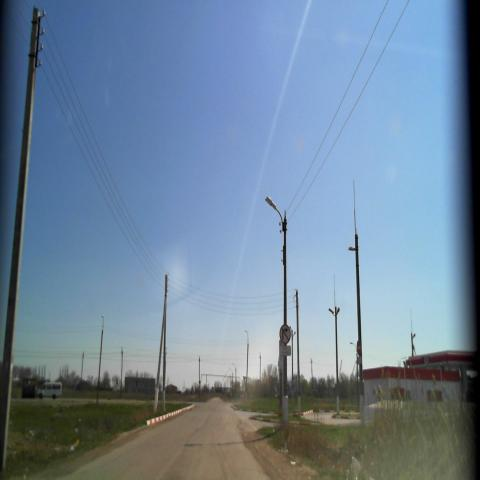3_18: (278, 323, 292, 345)
